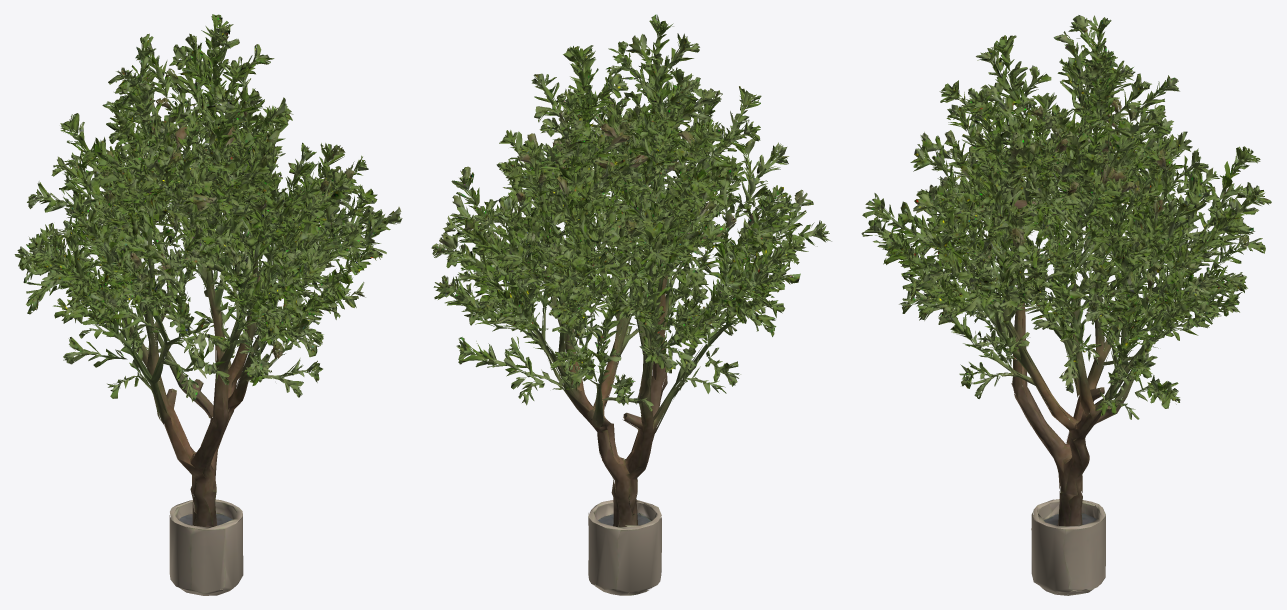
Rendered from olive-tree-planter-web-blender.glb.
3 views of the same model, side by side, from view 1: azimuth 30°, elevation 25°; view 2: azimuth 150°, elevation 25°; view 3: azimuth 270°, elevation 25° (orthographic).
Visible parts, largest first — view 1: geometry_0.001; view 2: geometry_0.001; view 3: geometry_0.001.
Part boxes in pixels (left/top/right/bottom): geometry_0.001: left=14, top=14, right=402, bottom=595; geometry_0.001: left=431, top=14, right=831, bottom=595; geometry_0.001: left=861, top=15, right=1271, bottom=595.
Bounding box in the file's own units: 0.6397 × 0.9995 × 0.681.
Materials: 1 (1 with a texture image).
